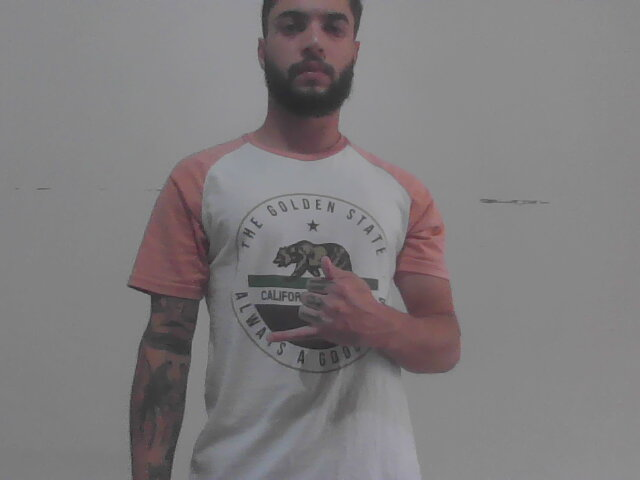j: (263, 236, 375, 352)
